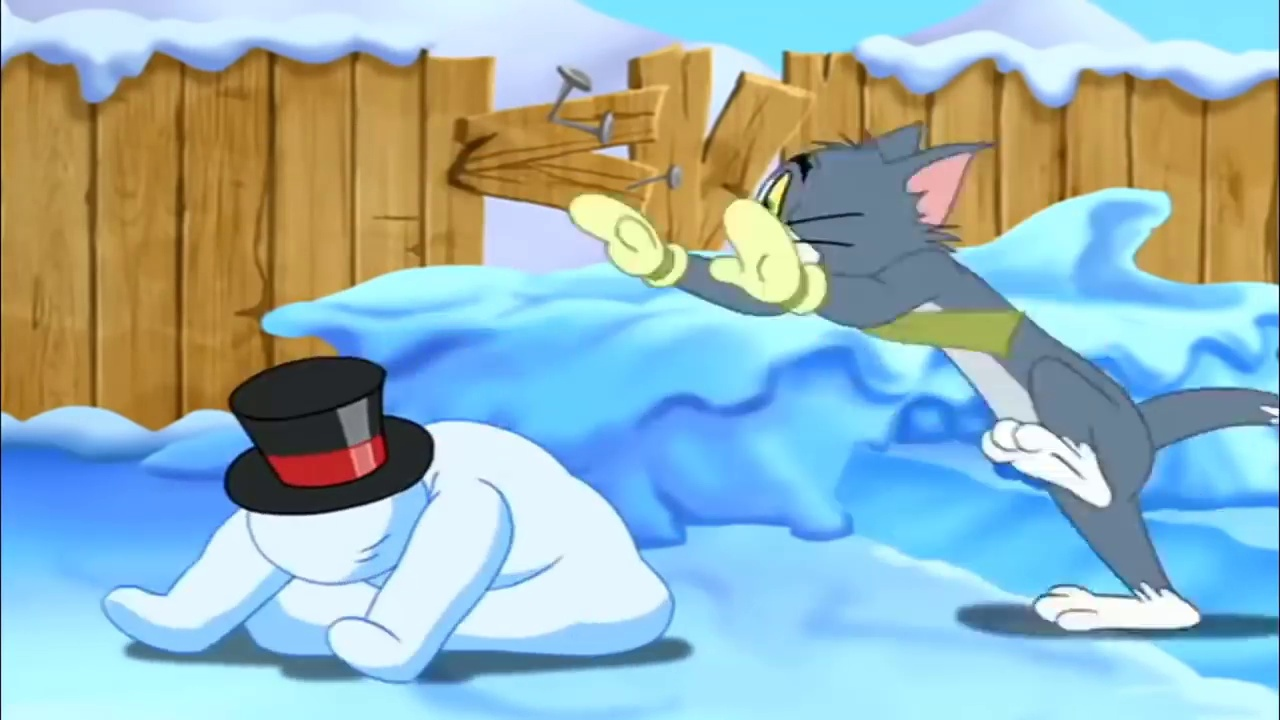face: (753, 151, 859, 277)
